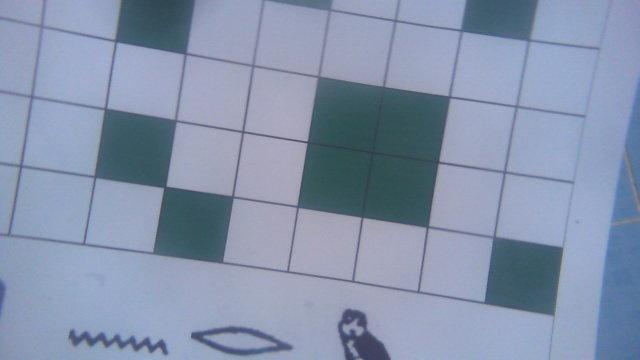Mouth: (188, 315, 293, 360)
Owl: (335, 307, 401, 360)
Water: (64, 324, 169, 358)
